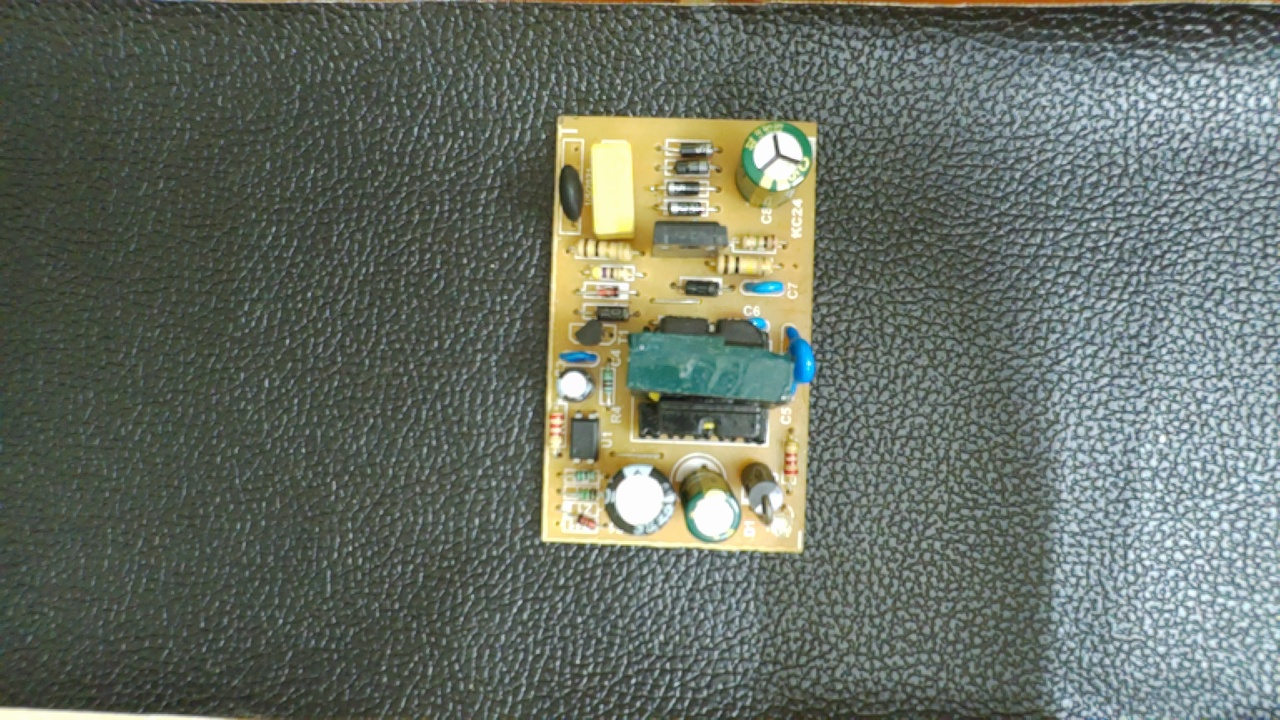fuse: (557, 164, 588, 225)
hv_capacitor: (732, 122, 813, 209)
mov: (779, 323, 819, 389)
optocoupler: (566, 411, 597, 465)
